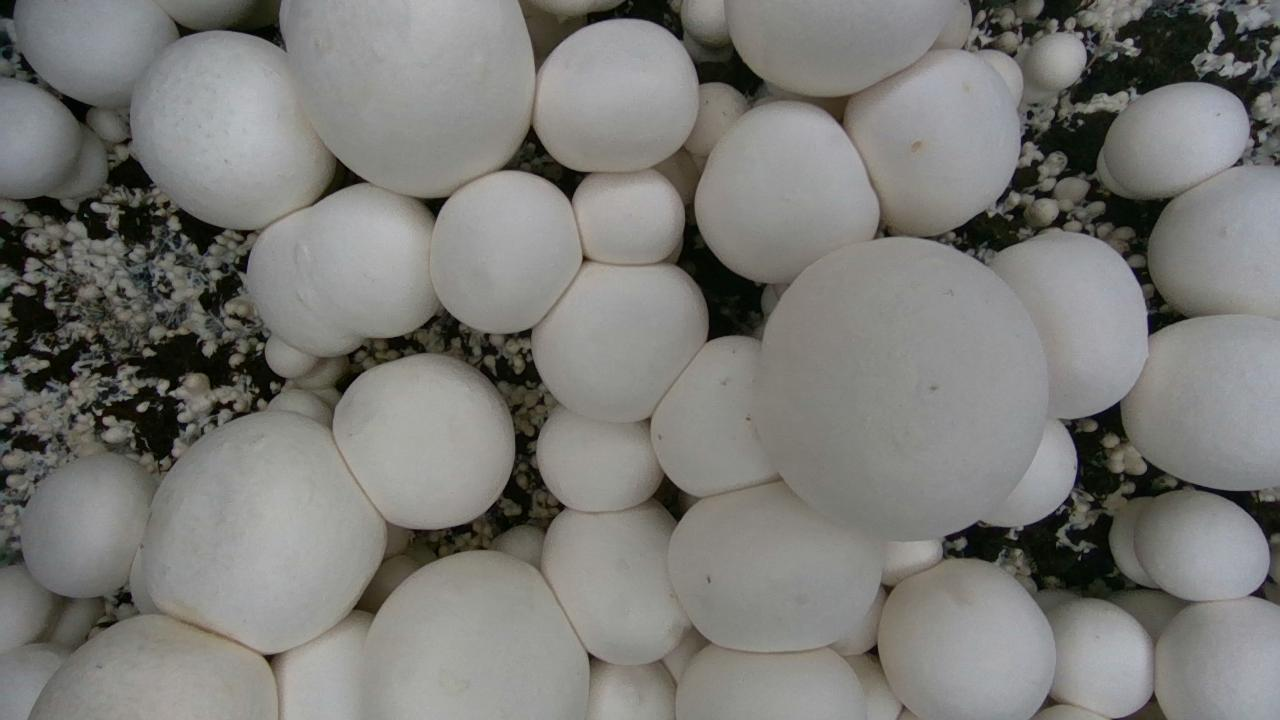WB: (755, 236, 1051, 540), (141, 412, 386, 652), (280, 0, 534, 197), (130, 31, 335, 229), (362, 550, 588, 718), (668, 481, 884, 651), (696, 102, 879, 283), (843, 49, 1020, 236), (247, 184, 438, 356), (332, 353, 514, 528), (990, 231, 1147, 418), (532, 261, 708, 422), (878, 559, 1055, 718), (1121, 315, 1279, 490), (29, 615, 277, 719), (533, 19, 698, 171), (541, 499, 690, 664), (430, 171, 581, 332), (725, 0, 954, 96), (651, 336, 779, 496), (1148, 166, 1279, 319), (21, 453, 156, 597), (14, 0, 178, 108), (1104, 82, 1249, 198), (1155, 596, 1279, 719), (1134, 490, 1269, 601), (676, 644, 866, 719), (536, 406, 662, 511), (1047, 598, 1153, 717), (271, 610, 373, 719), (572, 169, 684, 264), (983, 419, 1076, 526), (586, 659, 675, 719), (0, 564, 60, 653), (0, 643, 70, 719), (684, 82, 748, 156), (1022, 32, 1086, 103), (157, 0, 279, 30)
